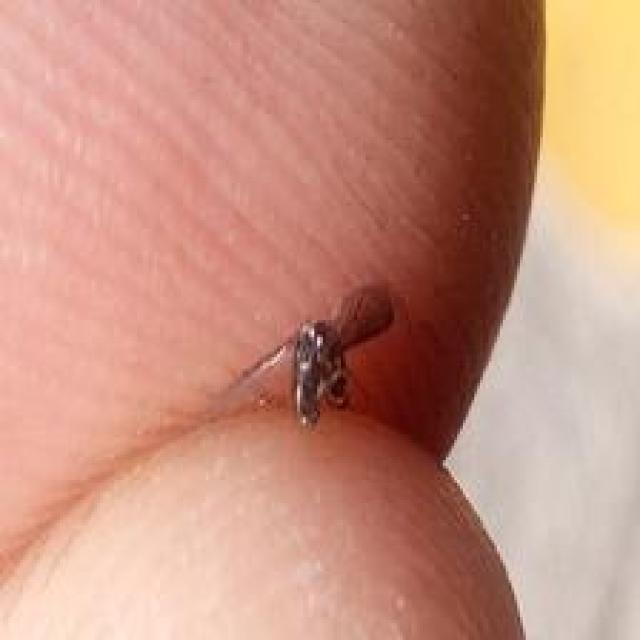Aedes albopictus: (216, 280, 396, 431)
